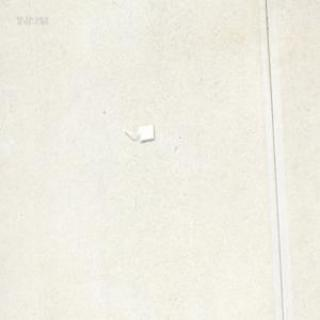LuggageTagtrack_idkeyframe: (121, 122, 154, 142)
